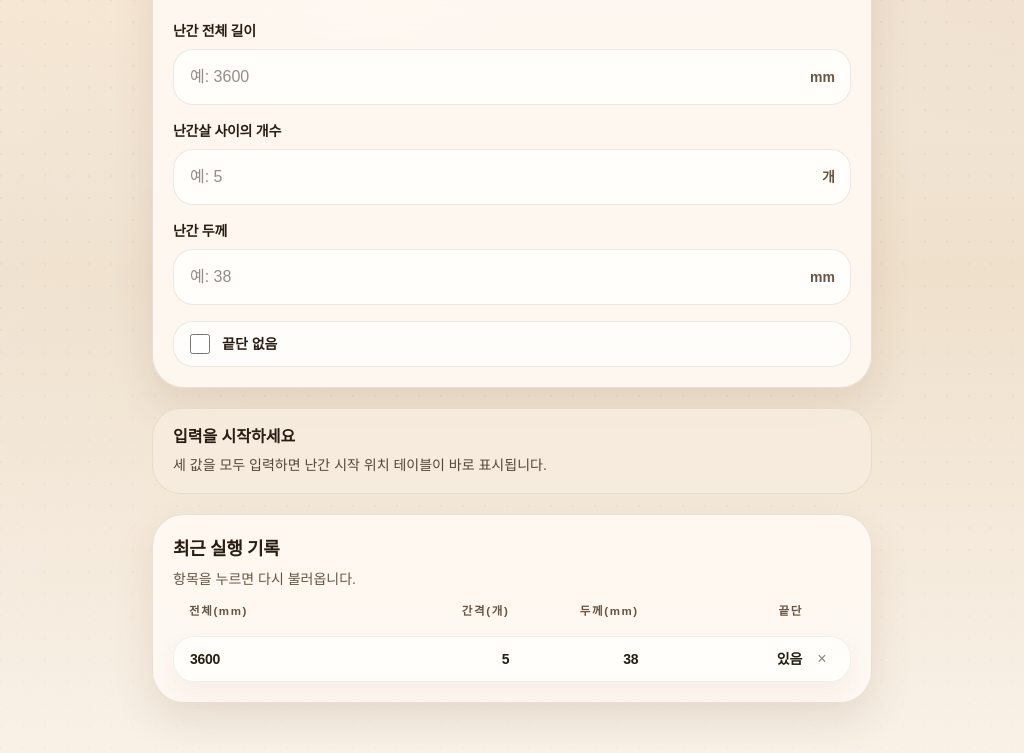
Scenario: FrameCalcApp › loads saved history entries and restores them when selected
(page scrolled)
Click the button with aria-label "전체 3600mm · 간격 5개 · 두께 38mm · 끝단 있음": (512, 659) [174, 637, 850, 681]
(page scrolled)
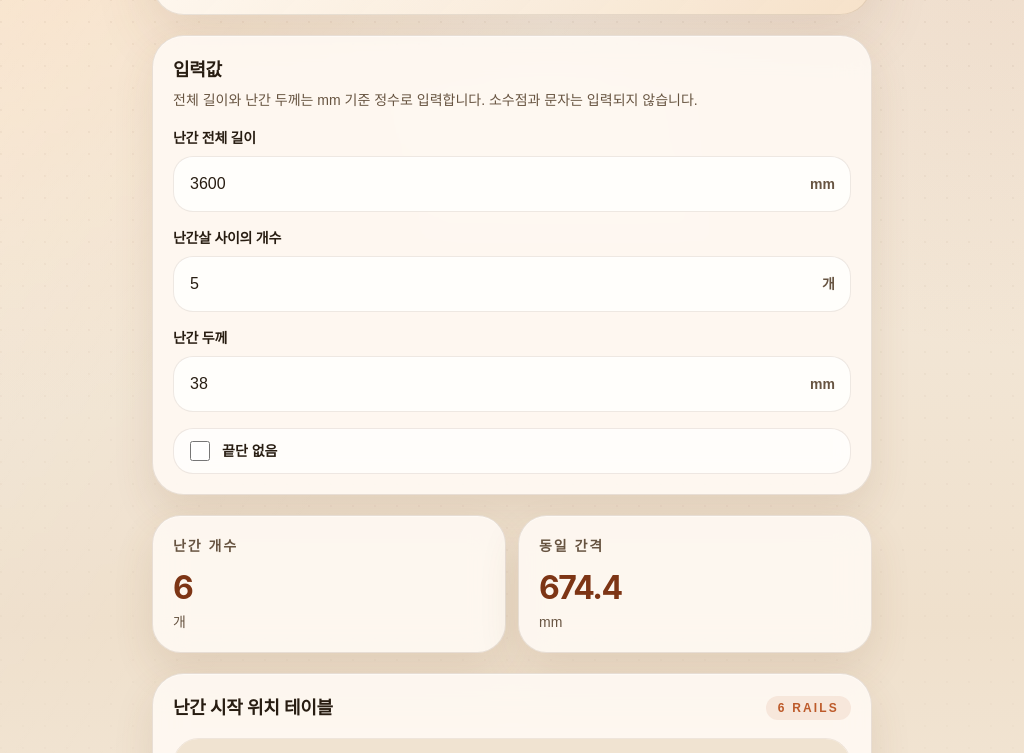
Check: the field labelled "난간 전체 길이" holds "3600", box [173, 156, 851, 212]
Check: the field labelled "난간살 사이의 개수" holds "5", box [173, 256, 851, 312]
Check: the field labelled "난간 두께" holds "38", box [173, 356, 851, 412]
